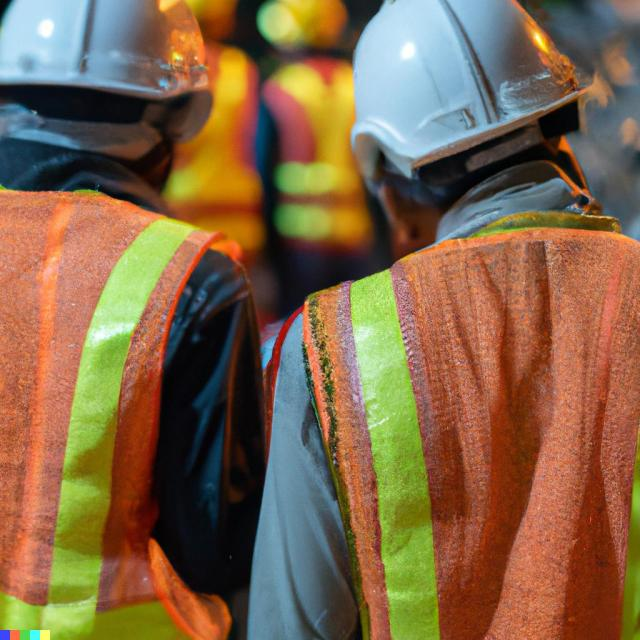Reflective-Jacket: (265, 149, 640, 640), (6, 169, 237, 640)
Safety-Helmet: (351, 2, 590, 167), (0, 0, 219, 106)
